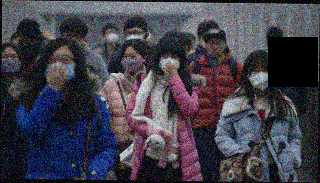with_mask: (41, 51, 76, 85), (246, 64, 275, 93), (156, 52, 183, 76), (121, 52, 145, 73), (2, 52, 23, 75), (16, 36, 37, 59), (124, 28, 147, 43), (104, 30, 120, 45)
without_mask: (204, 38, 227, 58), (62, 31, 85, 50)
